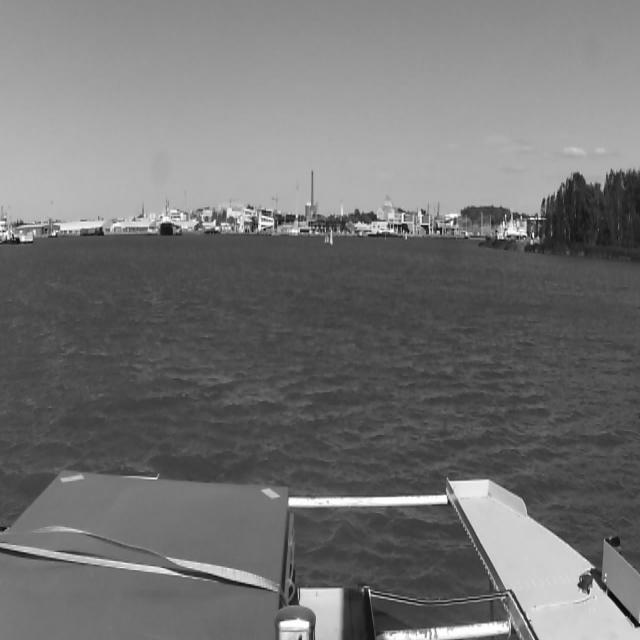buoy: (330, 228, 334, 246), (405, 230, 408, 243), (384, 231, 386, 241)
ship: (490, 207, 528, 241), (154, 207, 200, 230), (160, 200, 172, 238), (376, 226, 400, 239), (323, 234, 329, 244)
